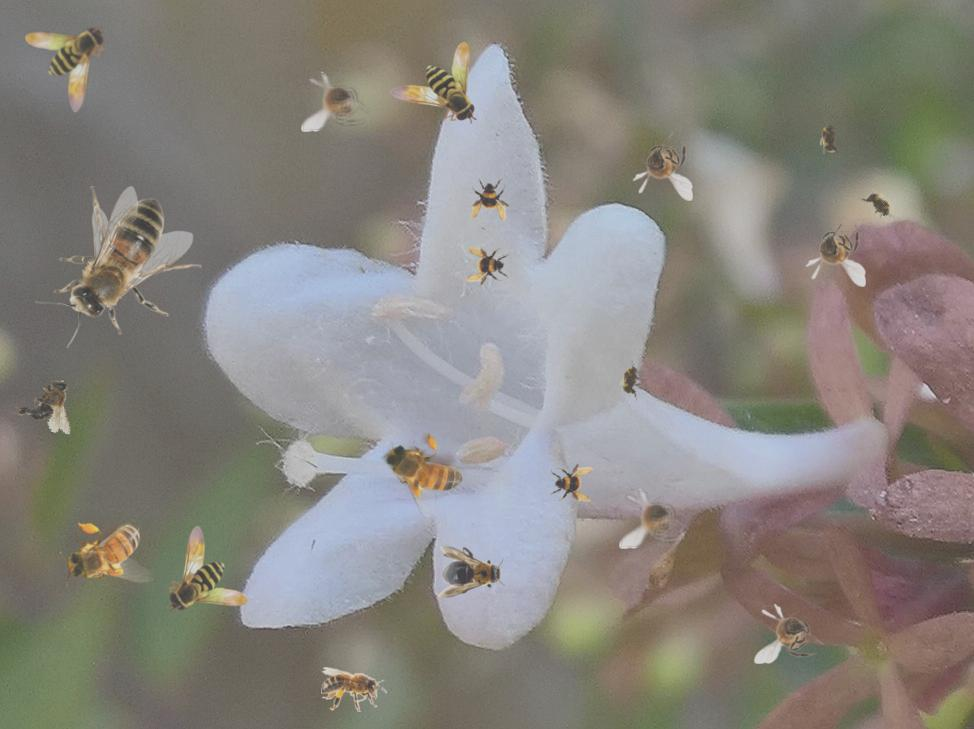Bee: (35, 186, 202, 348), (368, 413, 480, 530), (389, 42, 477, 124), (25, 25, 107, 113), (166, 525, 248, 613), (60, 519, 153, 587), (10, 366, 87, 438), (632, 131, 693, 201), (619, 488, 689, 549), (805, 217, 866, 287), (301, 71, 371, 132), (754, 603, 824, 664), (438, 546, 506, 598), (321, 667, 387, 712), (857, 182, 901, 228), (465, 245, 509, 289), (550, 460, 594, 504), (469, 178, 513, 222), (615, 358, 647, 402), (819, 118, 841, 158)
